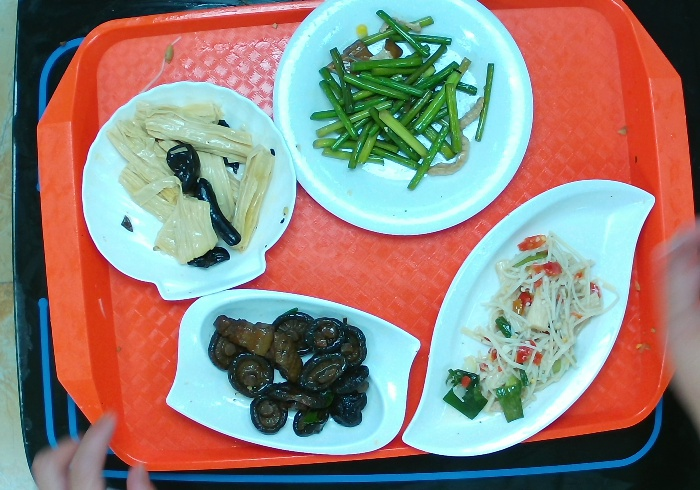RJxy-Bei_Ke_Wan: (79, 79, 298, 302)
RJxy-Jian_Jiao_Fang_Die: (163, 286, 422, 456)
RJxy-Jian_Jiao_Pan: (401, 176, 657, 459)
RJxy-Yuan_Pan: (269, 1, 535, 237)
